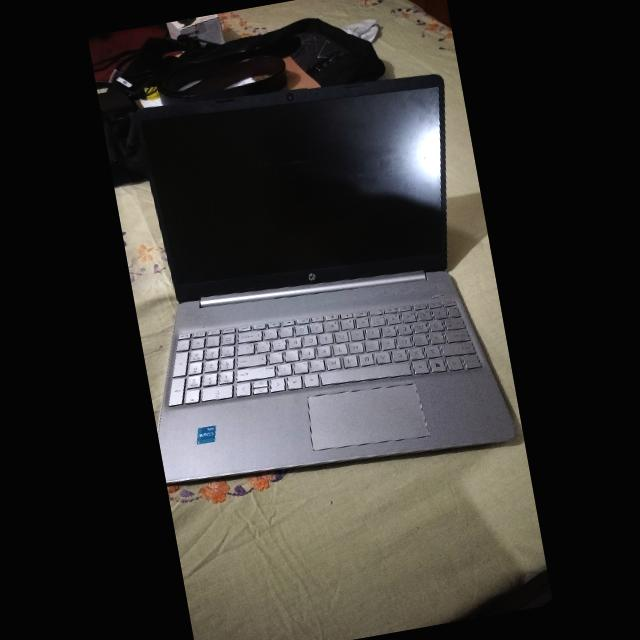laptop: (101, 58, 521, 516)
